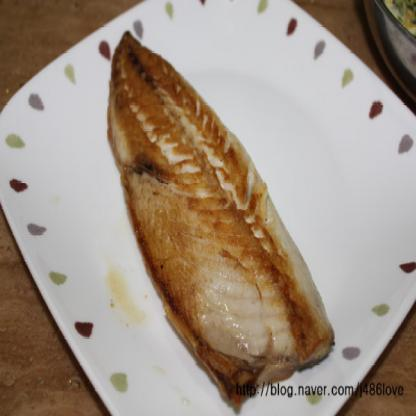Peixe: (91, 24, 361, 408)
